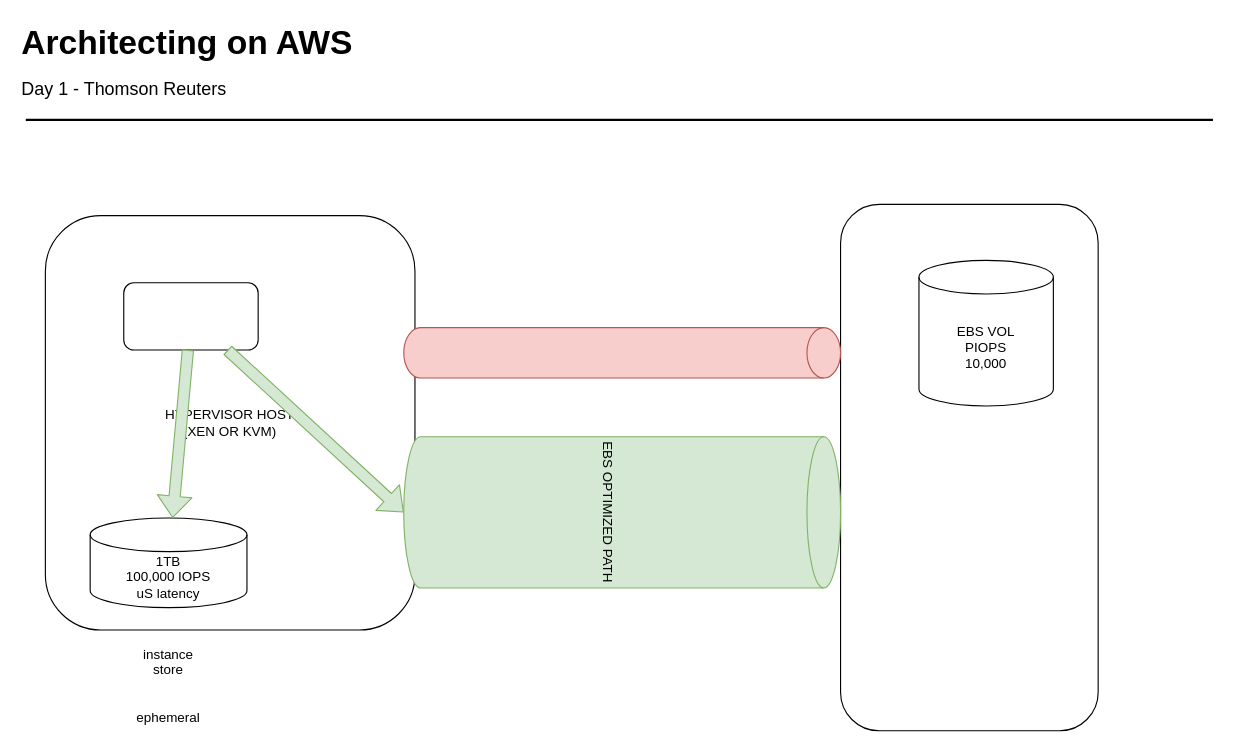
Image size: 1233x750. Some labels were removed from this diagram. Each missing label, with the box of its shape:
EBS SAN: (839, 203, 1098, 731)
VM EBS OPTIMIZED INSTANCE: (123, 282, 258, 350)
